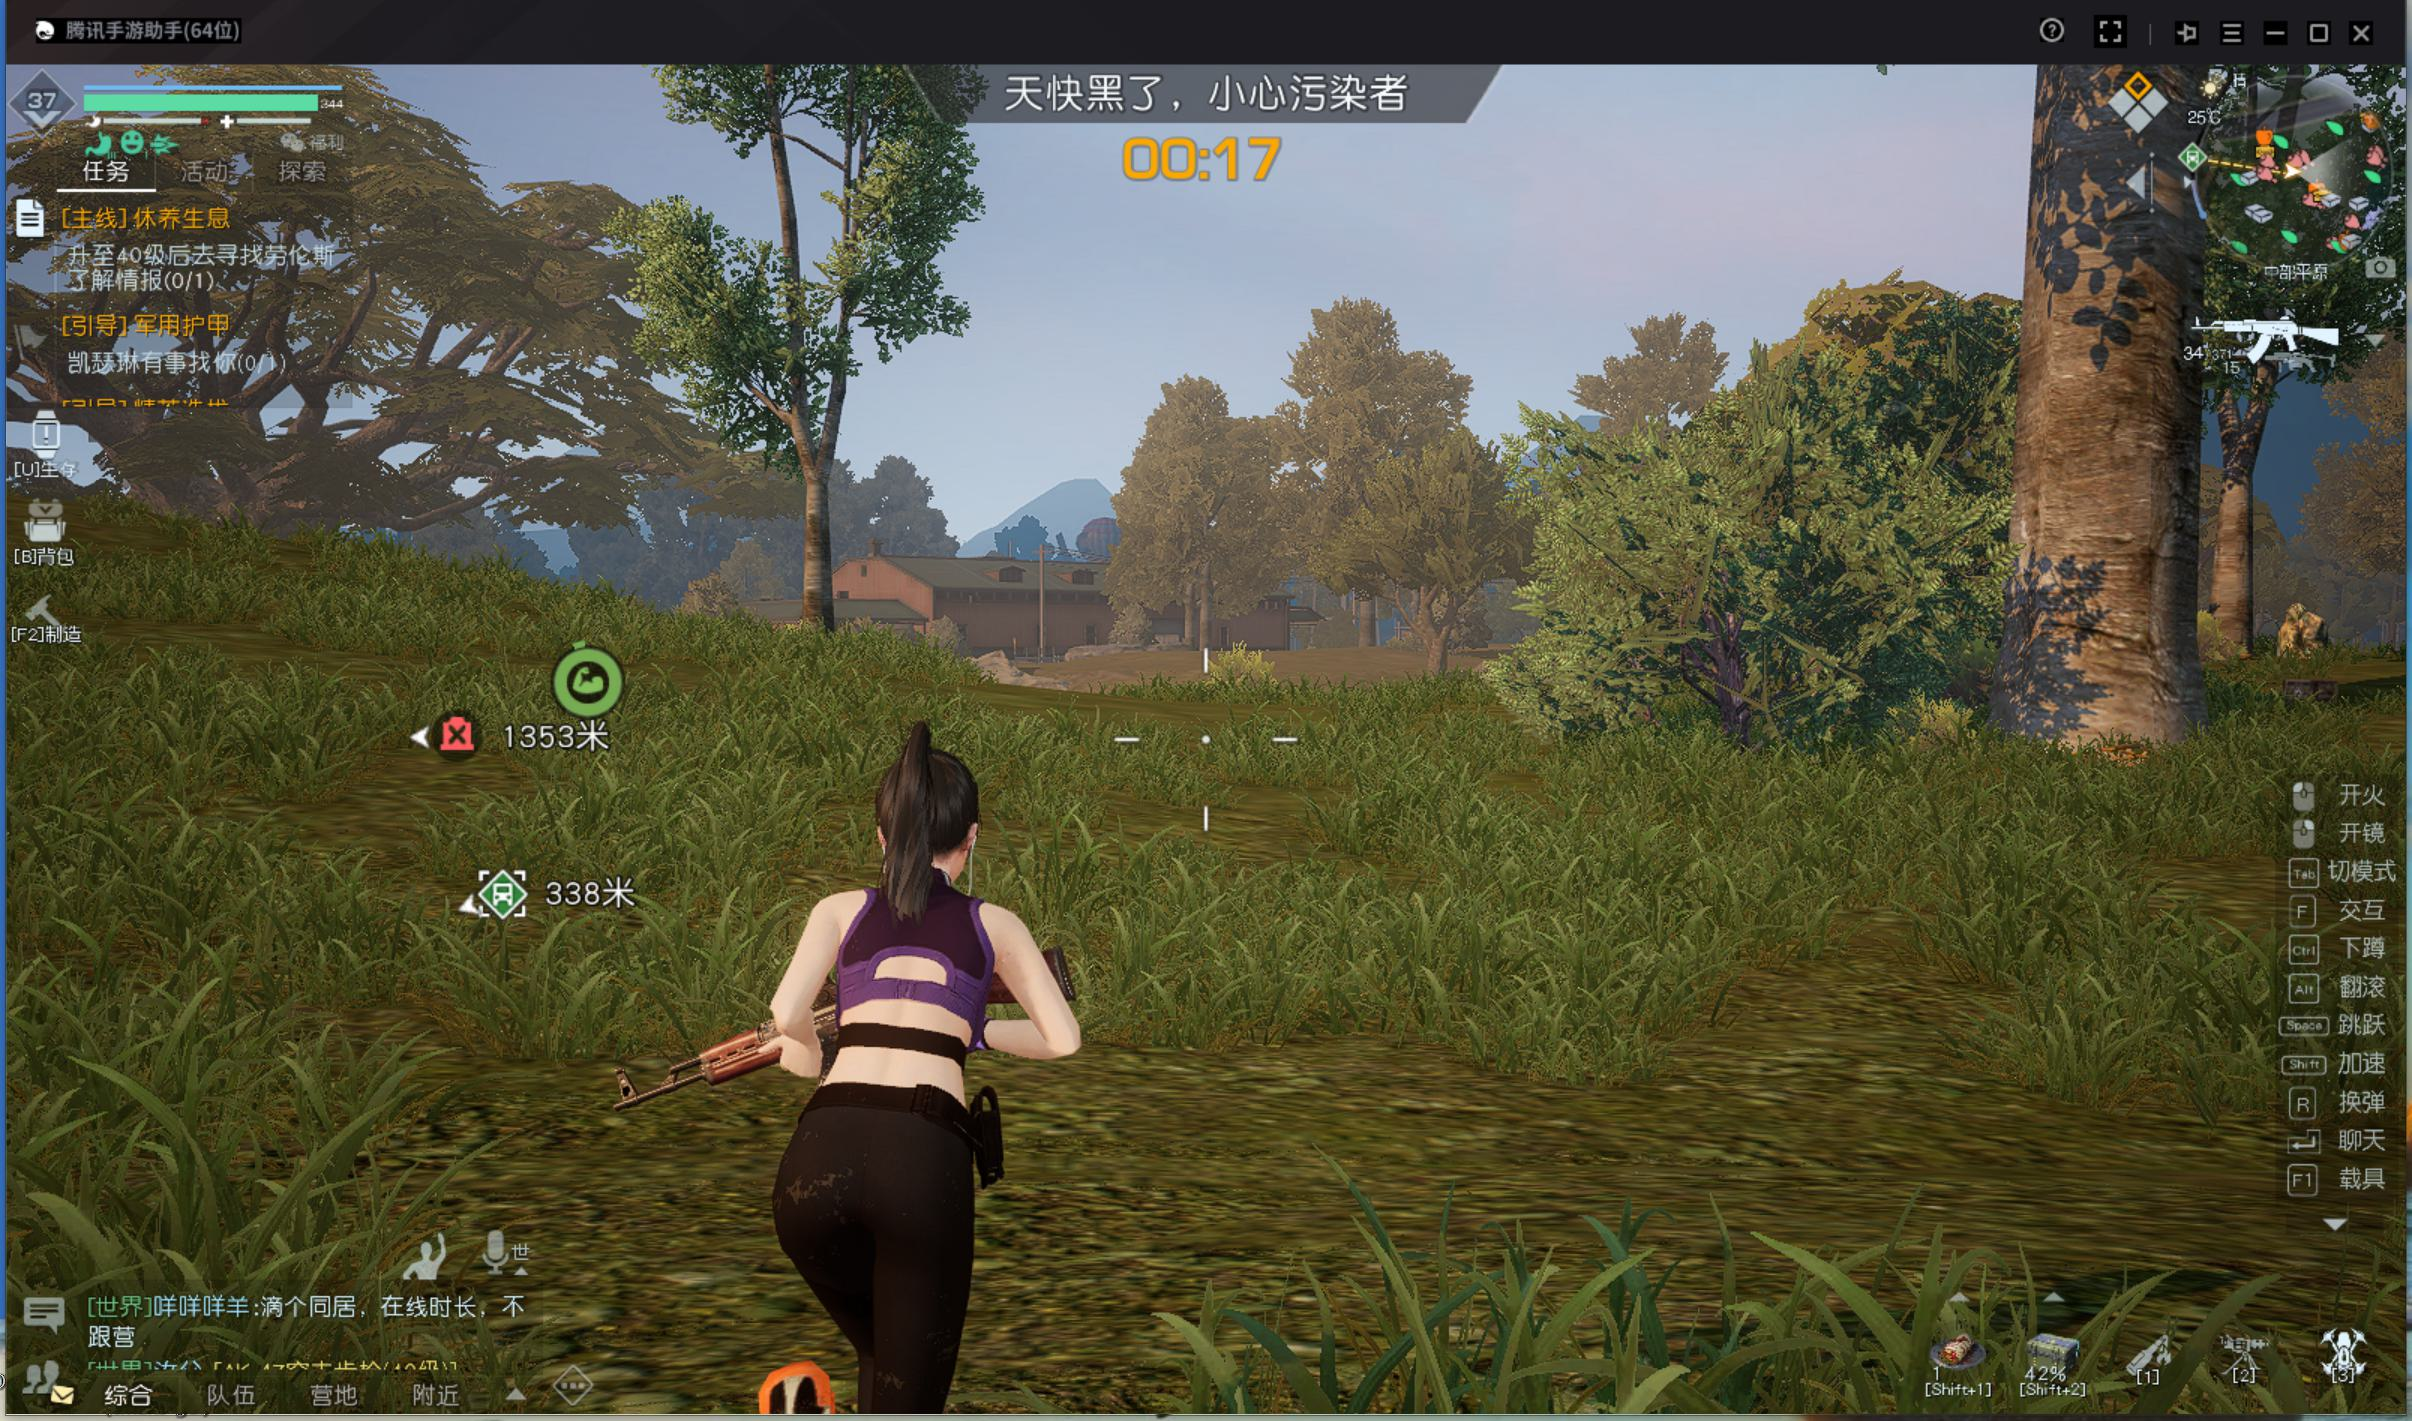stone: (2272, 580, 2349, 660)
tree: (1987, 123, 2194, 785), (2206, 464, 2272, 700), (790, 448, 849, 651)
